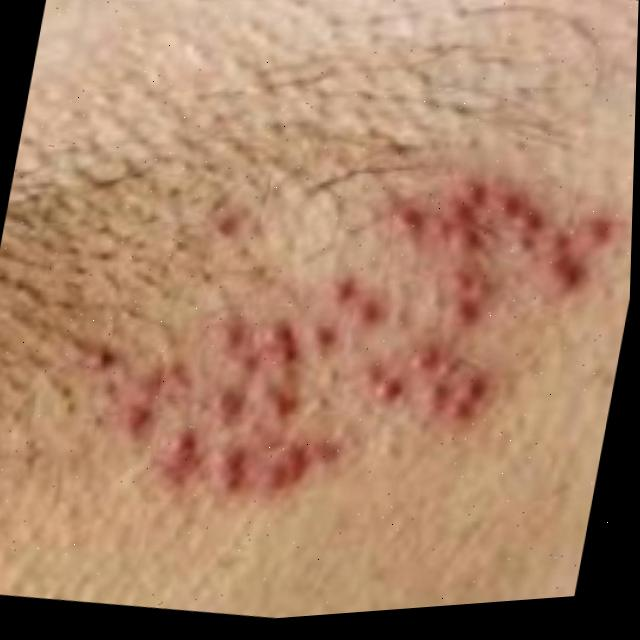Shingles: (93, 129, 612, 551)
